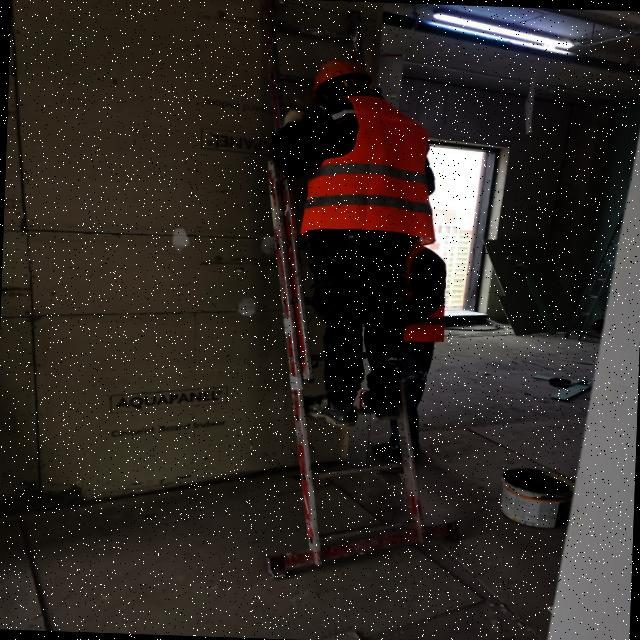Helmet: (311, 58, 381, 105)
